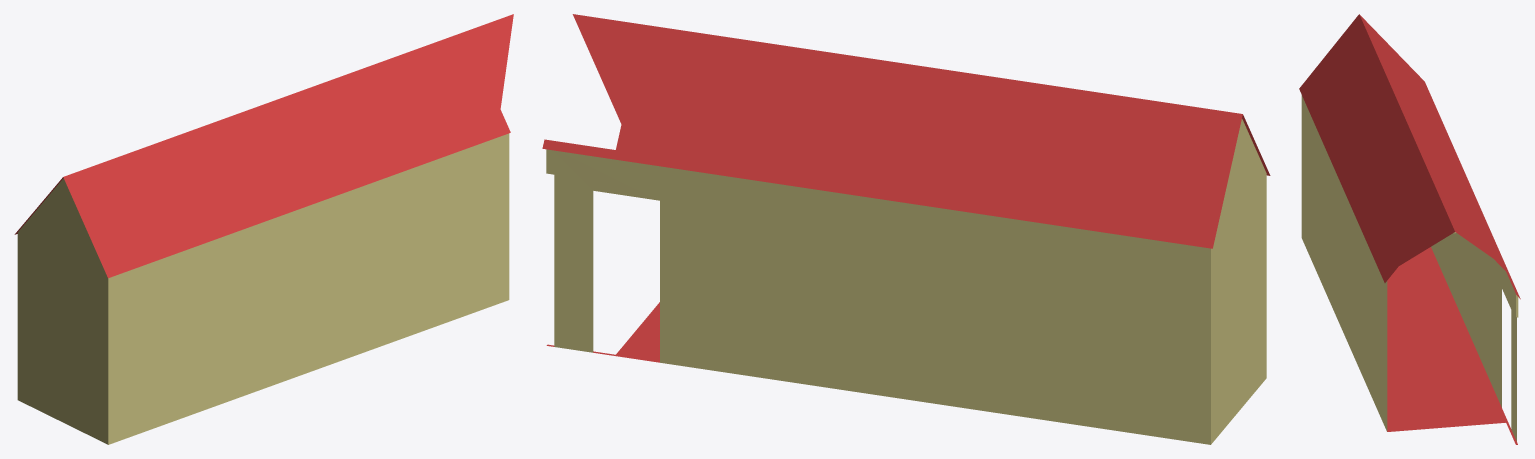
3 views of the same model, side by side, from view 1: azimuth 30°, elevation 25°; view 2: azimuth 150°, elevation 25°; view 3: azimuth 270°, elevation 25° (orthographic). The views are drawn at different scales.
Size of the model in its own units: 57.07 by 23.98 by 26.1.
